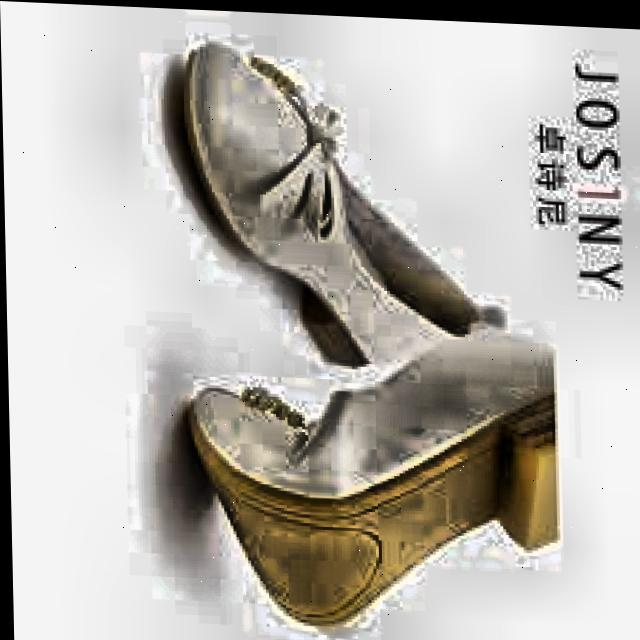shoes: (112, 38, 570, 640)
